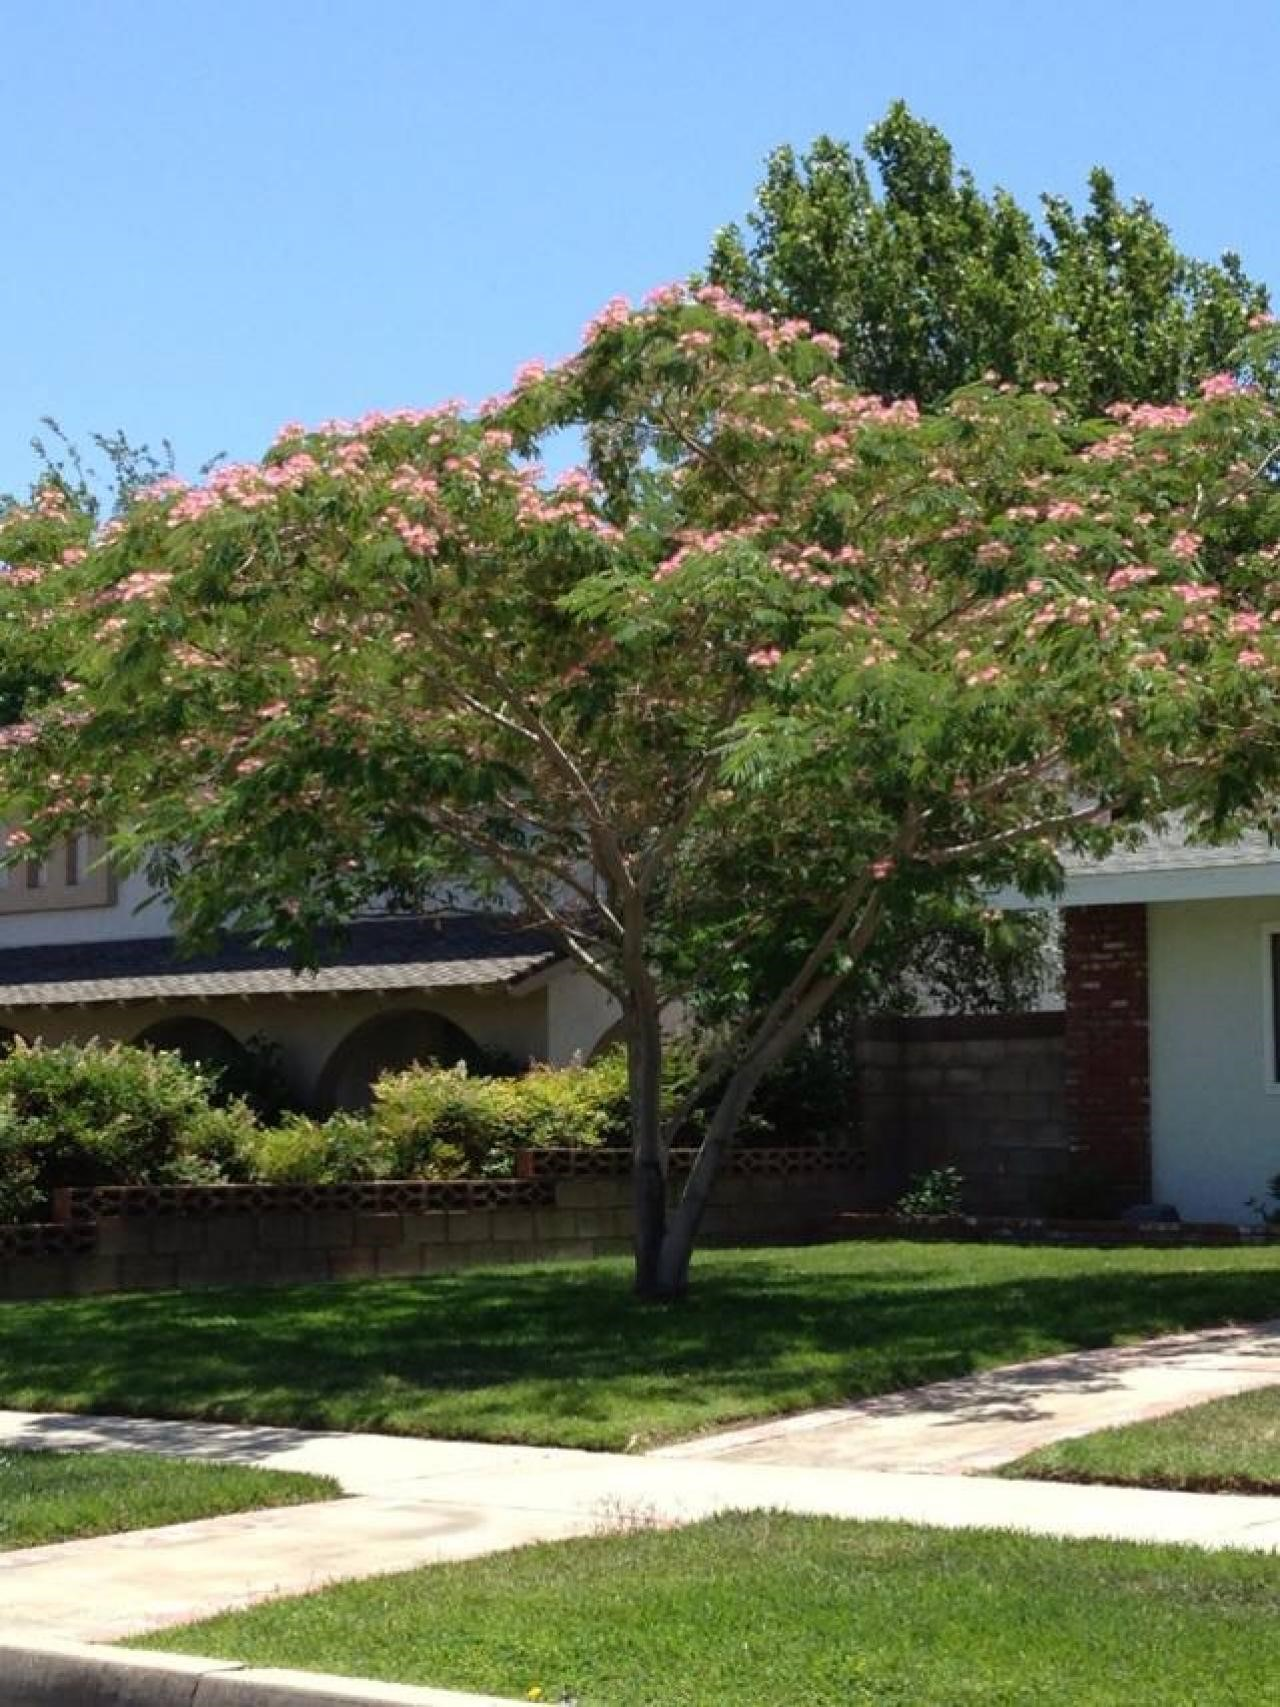grass: (0, 1210, 1254, 1441), (167, 1505, 1267, 1703)
tree: (602, 919, 862, 1352)
